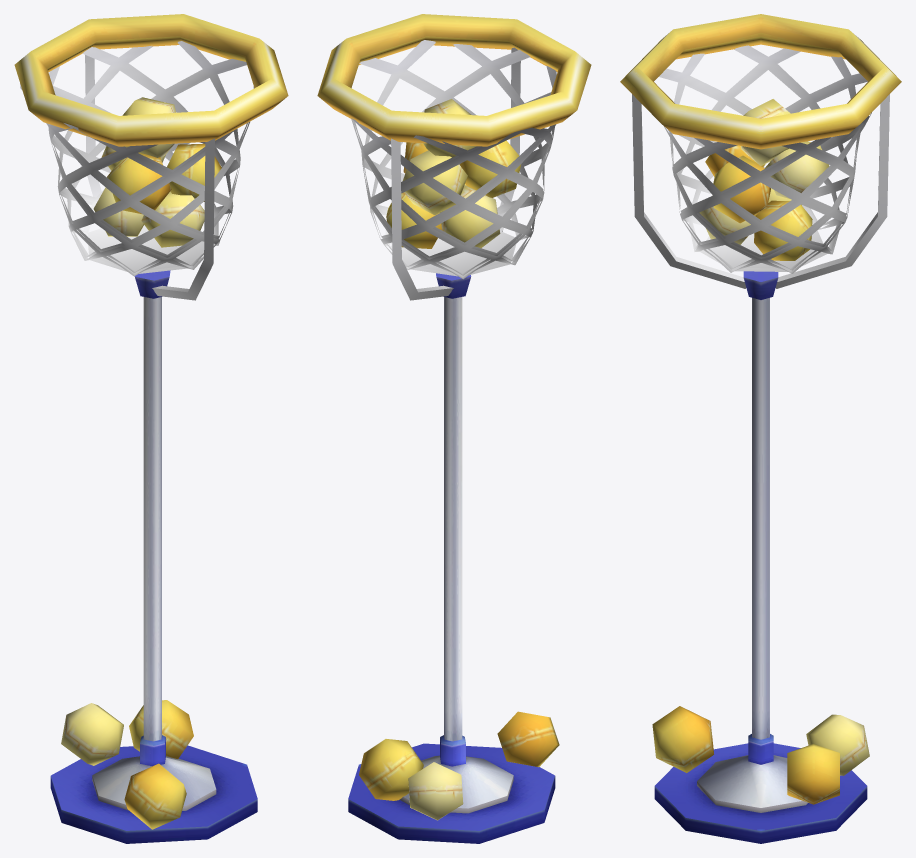
The model's file is my_autumnsports_01_beanball_01.glb.
The picture shows the model from 3 angles, left to right: view 1: azimuth 30°, elevation 25°; view 2: azimuth 150°, elevation 25°; view 3: azimuth 270°, elevation 25°; orthographic projection.
Visible parts, largest first — view 1: my_autumnsports_01_beanball_01; view 2: my_autumnsports_01_beanball_01; view 3: my_autumnsports_01_beanball_01.
Part boxes in pixels (x1=…): my_autumnsports_01_beanball_01: x1=14, y1=14, x2=288, y2=843; my_autumnsports_01_beanball_01: x1=317, y1=14, x2=591, y2=843; my_autumnsports_01_beanball_01: x1=620, y1=14, x2=901, y2=843.
Size of the model in its own units: 0.0055 by 0.0157 by 0.0055.
Materials: 1 (1 with a texture image).
